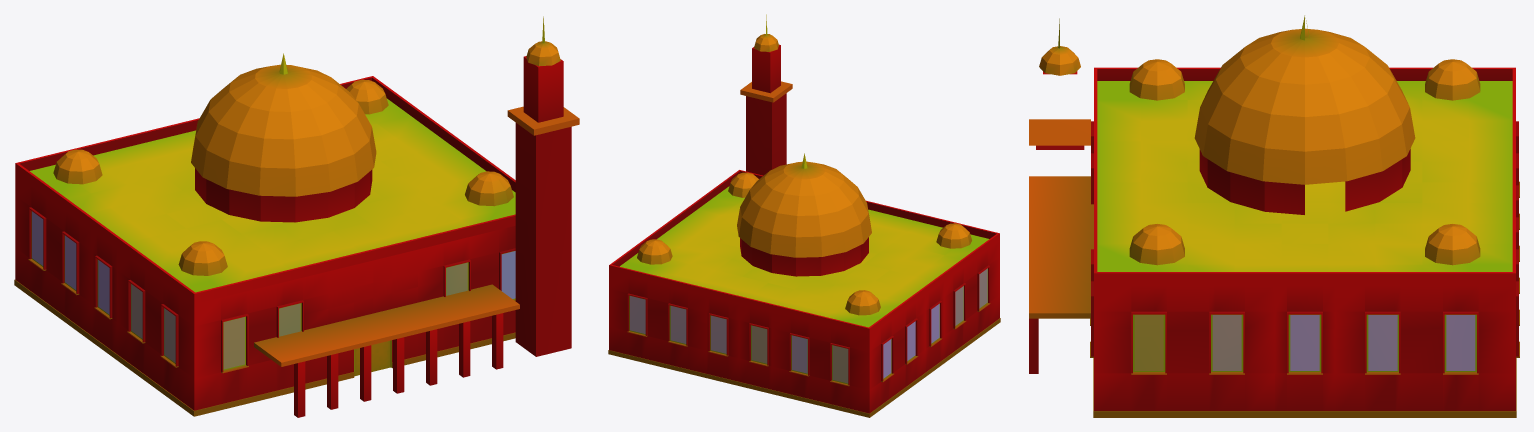
Rendered from mosque.glb.
3 renders of one model, left to right at view 1: azimuth 30°, elevation 25°; view 2: azimuth 150°, elevation 25°; view 3: azimuth 270°, elevation 25°, orthographic. The views are drawn at different scales.
Visible parts, largest first — view 1: mosque__hall__LOD0; view 2: mosque__hall__LOD0; view 3: mosque__hall__LOD0.
Part boxes in pixels (x1,y1,x2,y2): mosque__hall__LOD0: (14, 16, 579, 417); mosque__hall__LOD0: (608, 14, 1000, 417); mosque__hall__LOD0: (1029, 15, 1519, 417).
Size of what is drawn, in the model's own units: 30.48 by 26.55 by 30.24.
